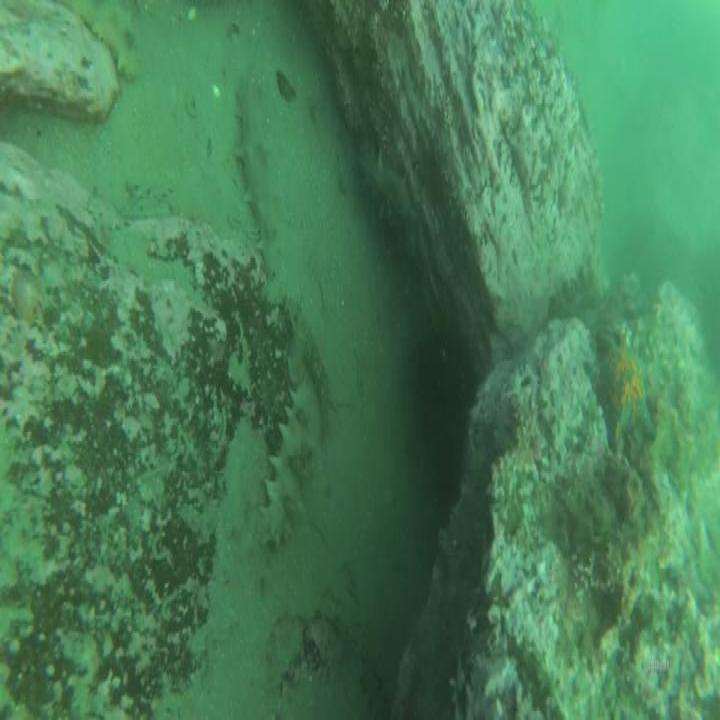holothurian: (259, 363, 322, 537), (236, 73, 282, 240), (71, 2, 141, 85)
starfish: (594, 325, 658, 448)
